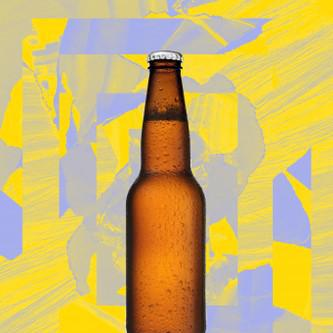beer: (123, 50, 208, 333)
